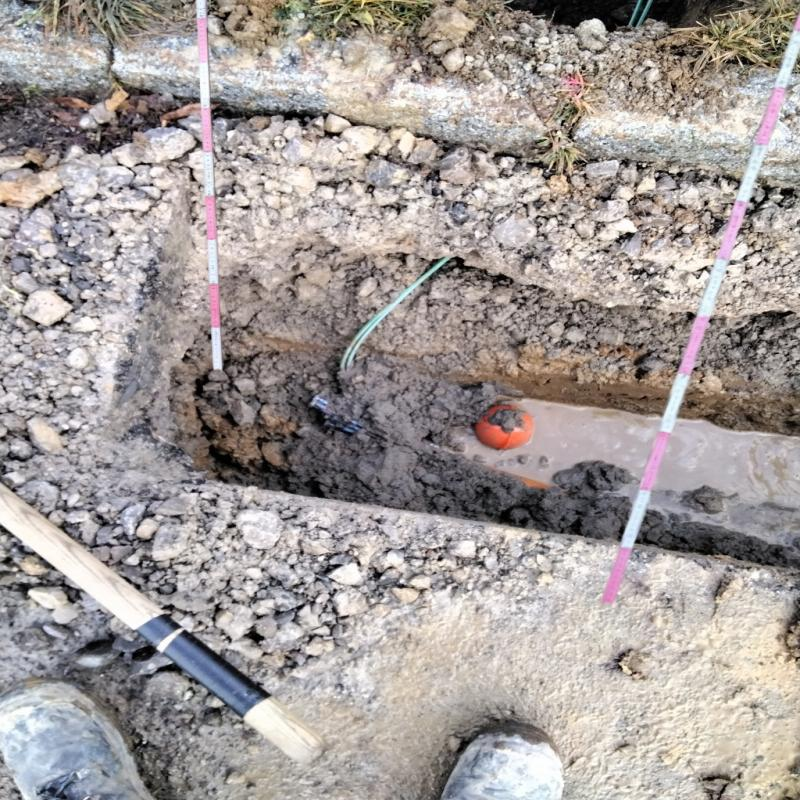Kugelmarker: (475, 405, 537, 451)
Orang-Speednetrohrchen: (310, 396, 553, 491)
